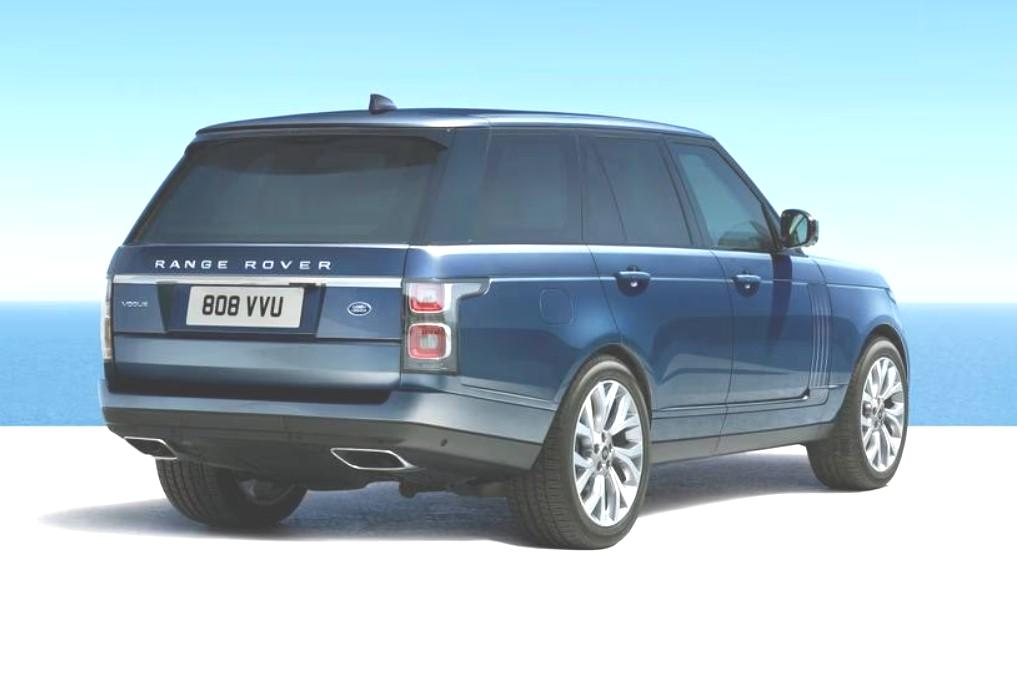range rover: (140, 251, 342, 289)
